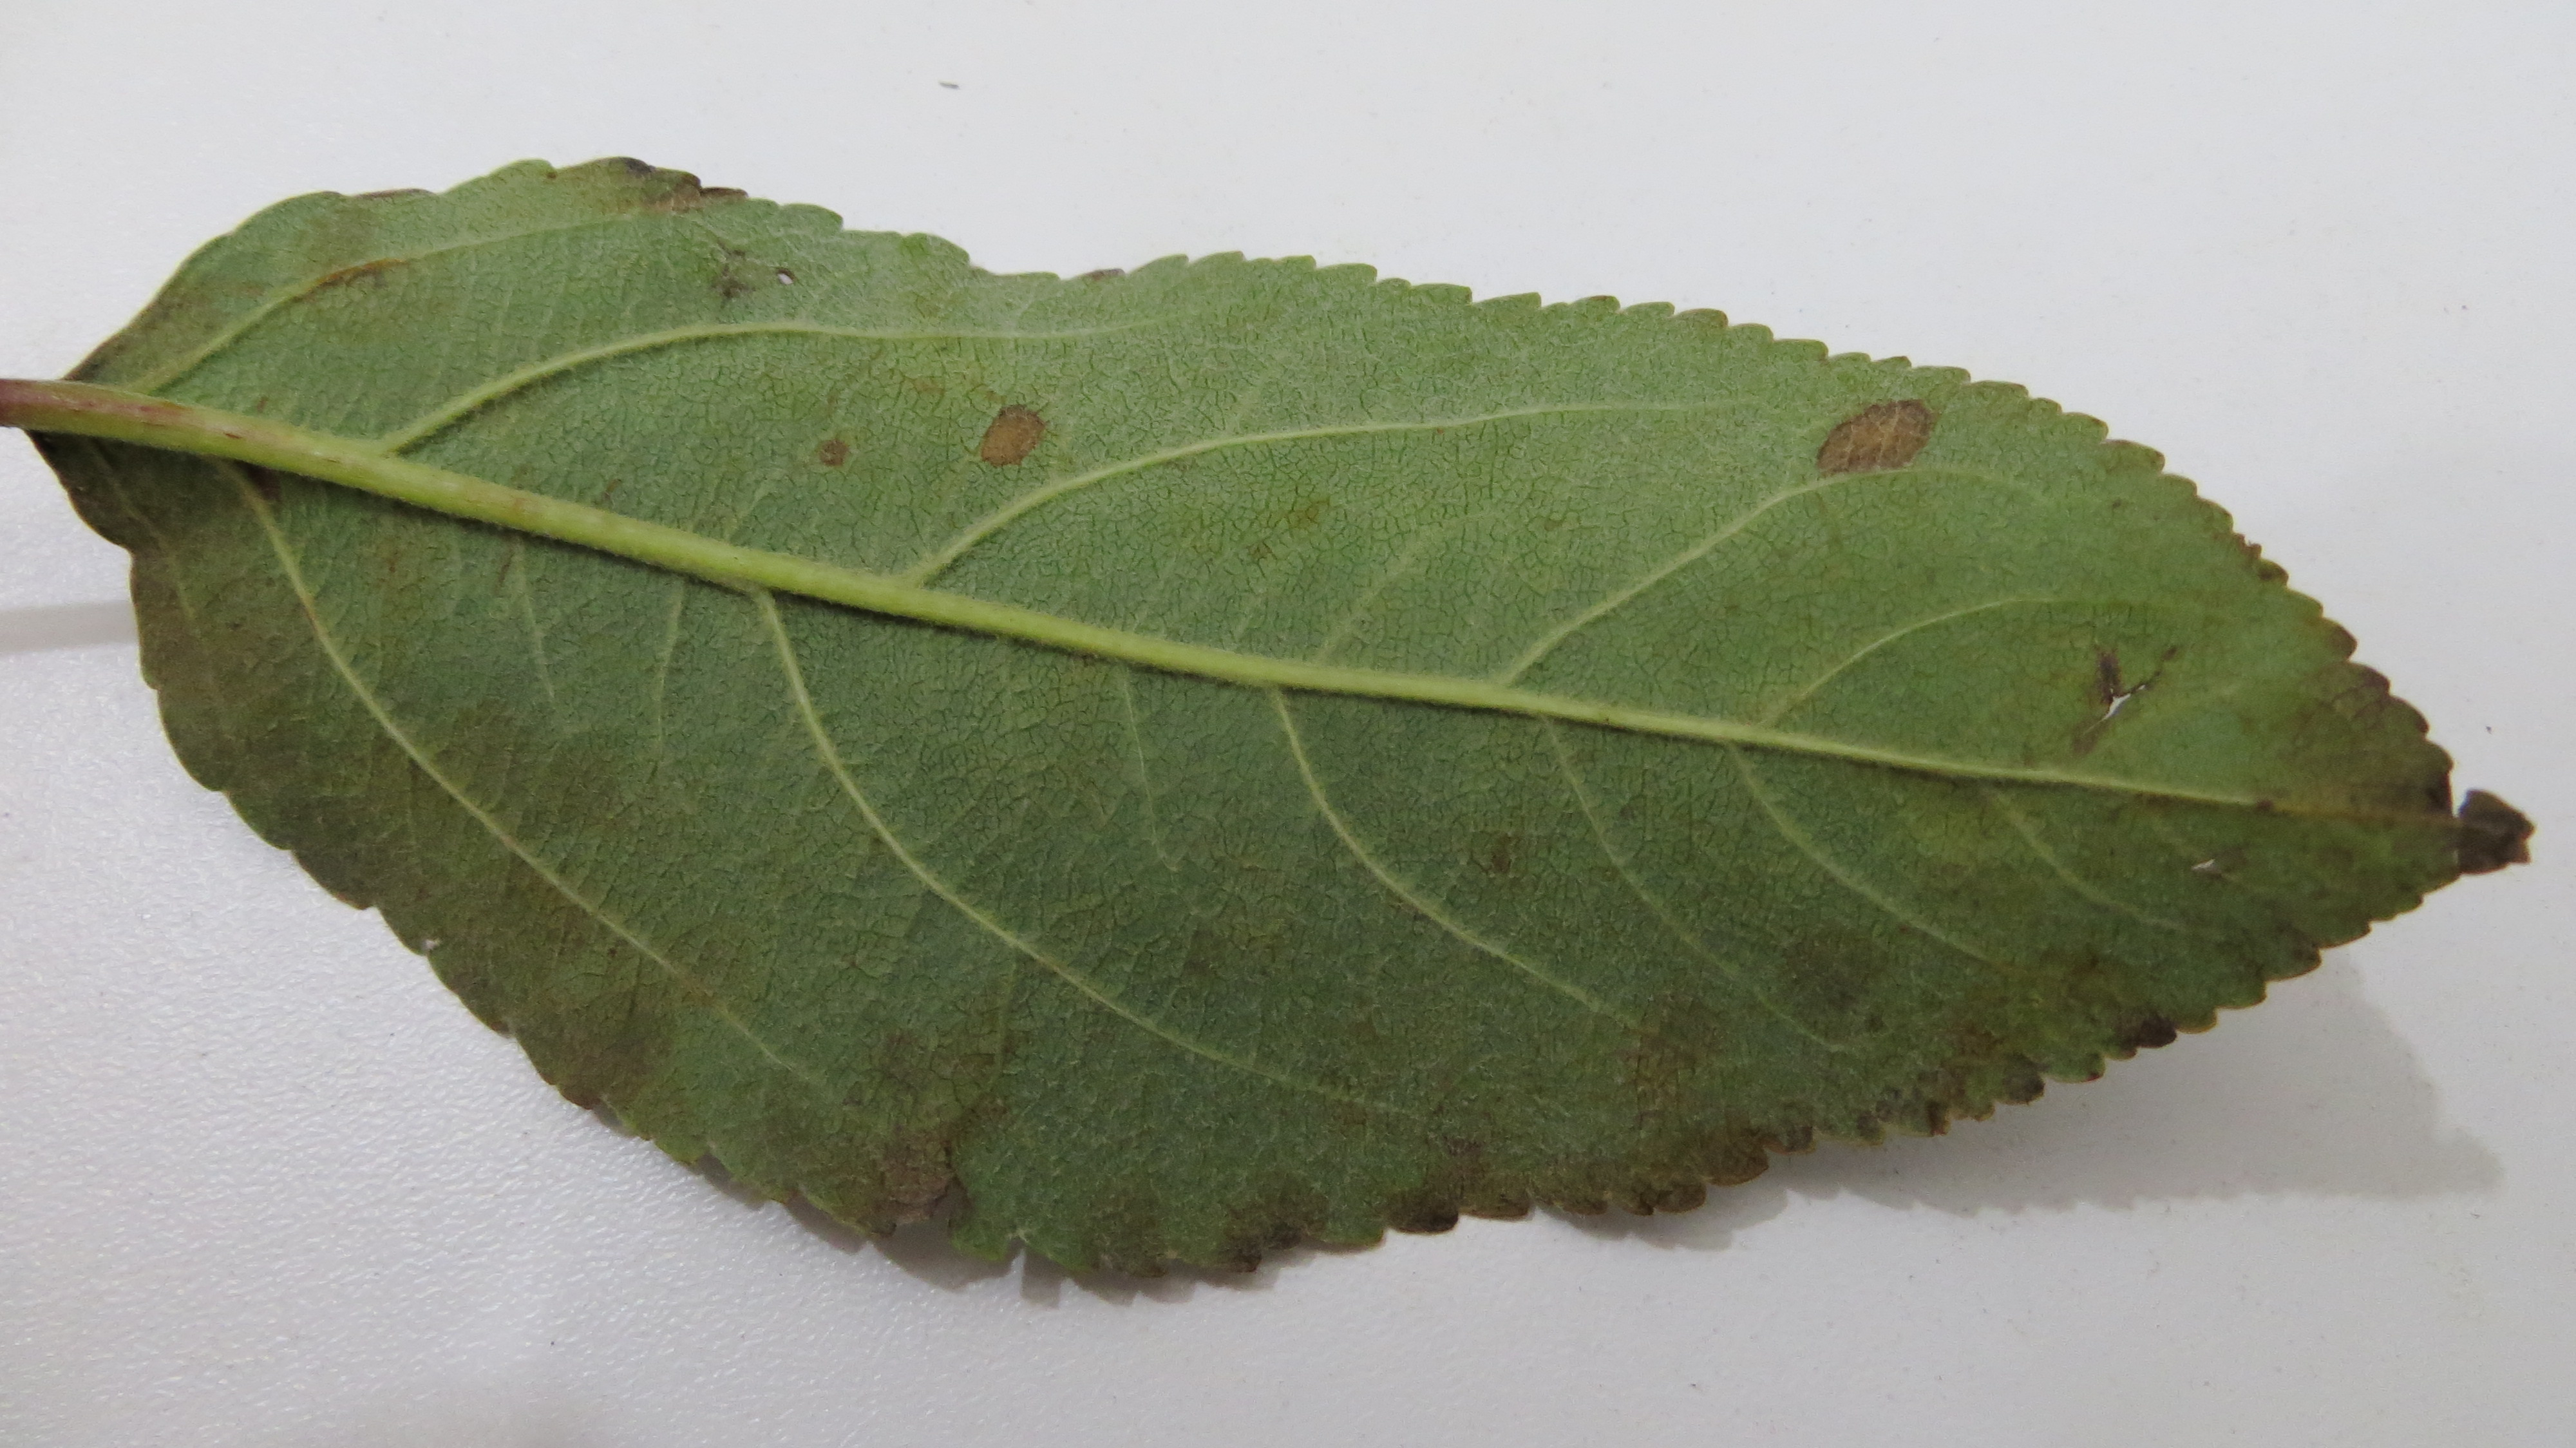sarna: (336, 809, 543, 974), (2273, 651, 2434, 818), (872, 959, 1023, 1112), (184, 697, 329, 855), (846, 1108, 996, 1252), (510, 981, 663, 1121), (511, 724, 674, 855), (1376, 1112, 1523, 1243), (1612, 979, 1739, 1119), (522, 857, 649, 995), (2063, 621, 2173, 763), (1773, 912, 1895, 1037), (722, 1057, 835, 1191), (1921, 982, 2040, 1110), (1210, 1147, 1325, 1278), (140, 584, 272, 697), (1065, 1168, 1177, 1292), (421, 671, 524, 802), (1813, 393, 1951, 490), (290, 218, 400, 317), (665, 908, 761, 1009), (1444, 804, 1539, 899), (962, 395, 1065, 478), (621, 156, 748, 220), (2026, 913, 2123, 986), (2443, 786, 2528, 867), (690, 239, 763, 322), (2118, 997, 2189, 1060), (791, 423, 869, 476)
